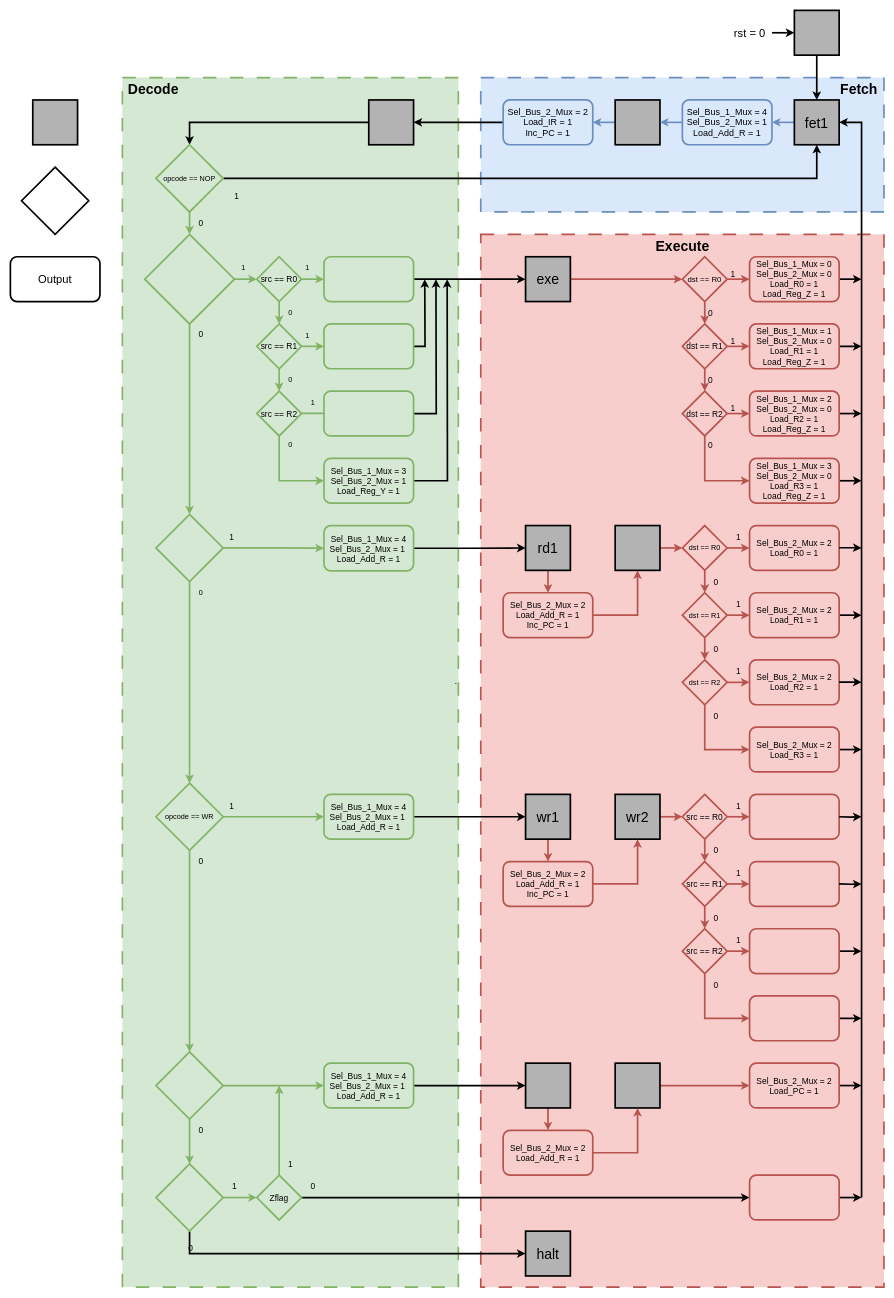
Some shapes in this 894 by 1298 pixel diagram are drawn without their labels. Here are the shapes that lost their labels. From the top down, the centre of each, then its label:
At [816,32]: "idle".
At [55,122]: "state".
At [391,122]: "dec".
At [637,122]: "fet2".
At [54,200]: "Dicision".
At [189,279]: "opcode == ADD, SUB, AND, NOT".
At [368,279]: "Sel_Bus_1_Mux = 0 Sel_Bus_2_Mux = 1 Load_Reg_Y = 1".
At [368,346]: "Sel_Bus_1_Mux = 1 Sel_Bus_2_Mux = 1 Load_Reg_Y = 1".
At [368,413]: "Sel_Bus_1_Mux = 2 Sel_Bus_2_Mux = 1 Load_Reg_Y = 1".
At [189,547]: "opcode == RD".
At [637,547]: "rd2".
At [794,816]: "Sel_Bus_1_Mux = 0 write = 1".
At [794,883]: "Sel_Bus_1_Mux = 1 write = 1".
At [794,951]: "Sel_Bus_1_Mux = 2 write = 1".
At [794,1018]: "Sel_Bus_1_Mux = 3 write = 1".
At [189,1085]: "opcode == BR".
At [547,1085]: "br1".
At [637,1085]: "br2".
At [189,1197]: "opcode == BRZ".
At [794,1197]: "Inc_PC = 1".
